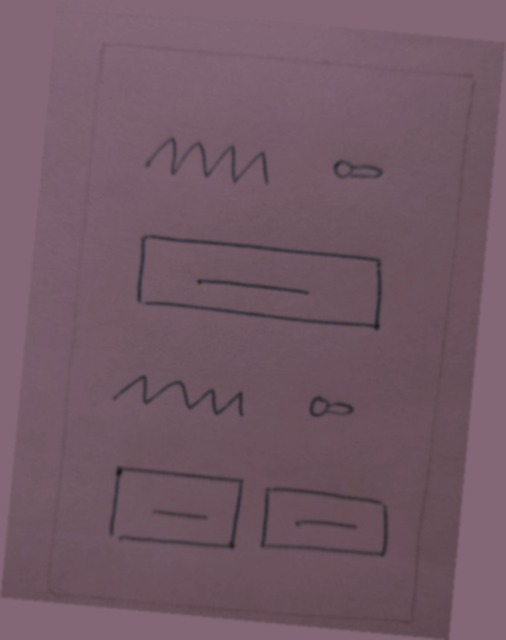button: (122, 224, 406, 349), (100, 460, 255, 562), (251, 479, 402, 569)
switch: (292, 378, 371, 433), (323, 152, 403, 195)
text: (102, 360, 264, 442), (128, 123, 295, 199)
